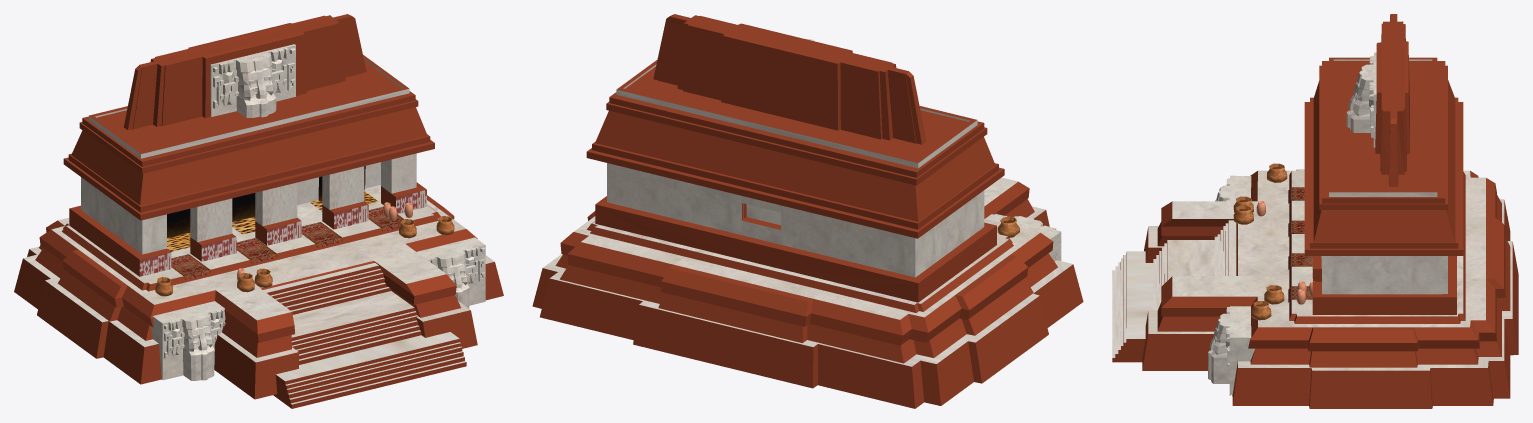
The model's file is civic_center.dae.
The picture shows the model from 3 angles, left to right: view 1: azimuth 30°, elevation 25°; view 2: azimuth 150°, elevation 25°; view 3: azimuth 270°, elevation 25°; orthographic projection. The views are drawn at different scales.
Visible parts, largest first — view 1: cc_1; view 2: cc_1; view 3: cc_1.
Part boxes in pixels (x1,y1,x2,y2): cc_1: (14, 14, 503, 408); cc_1: (532, 14, 1083, 408); cc_1: (1112, 14, 1518, 408).
Bounding box in the file's own units: 28 × 25.49 × 17.54.
